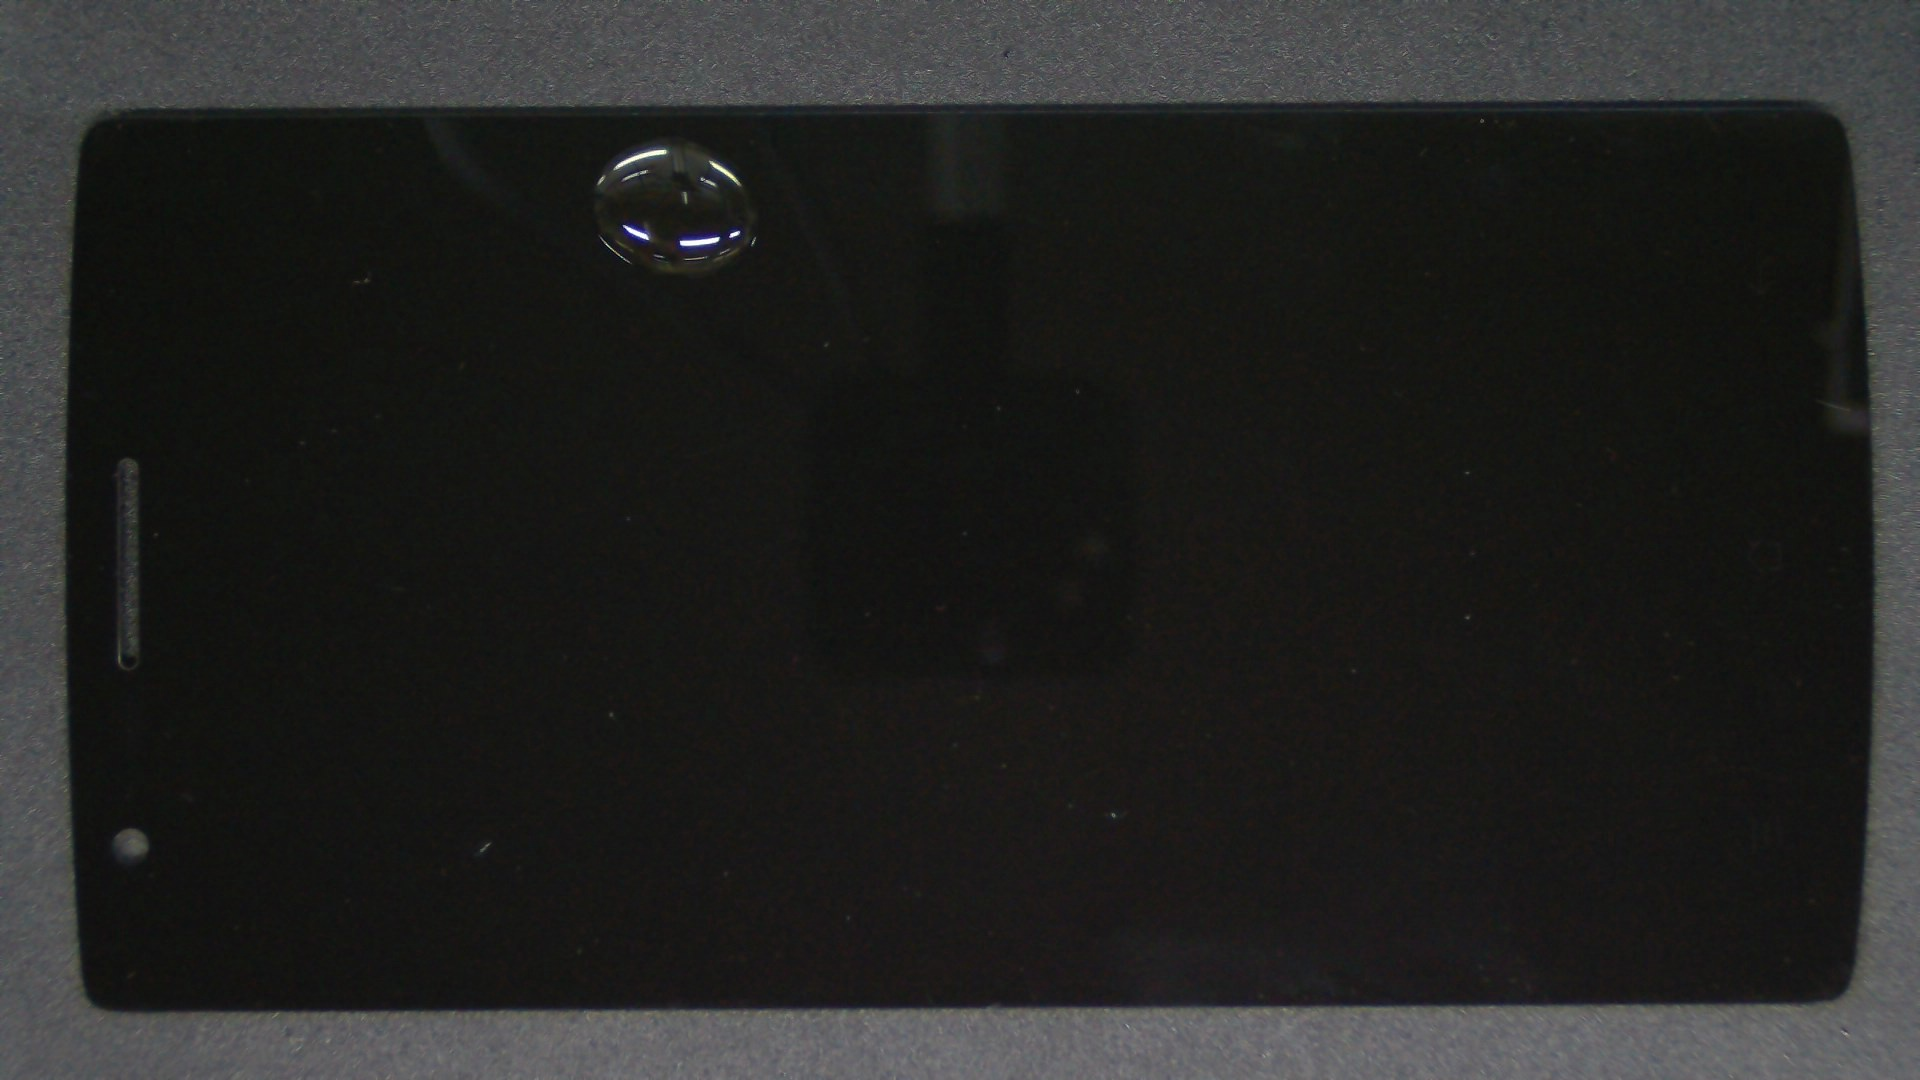oil: (336, 69, 1007, 207)
